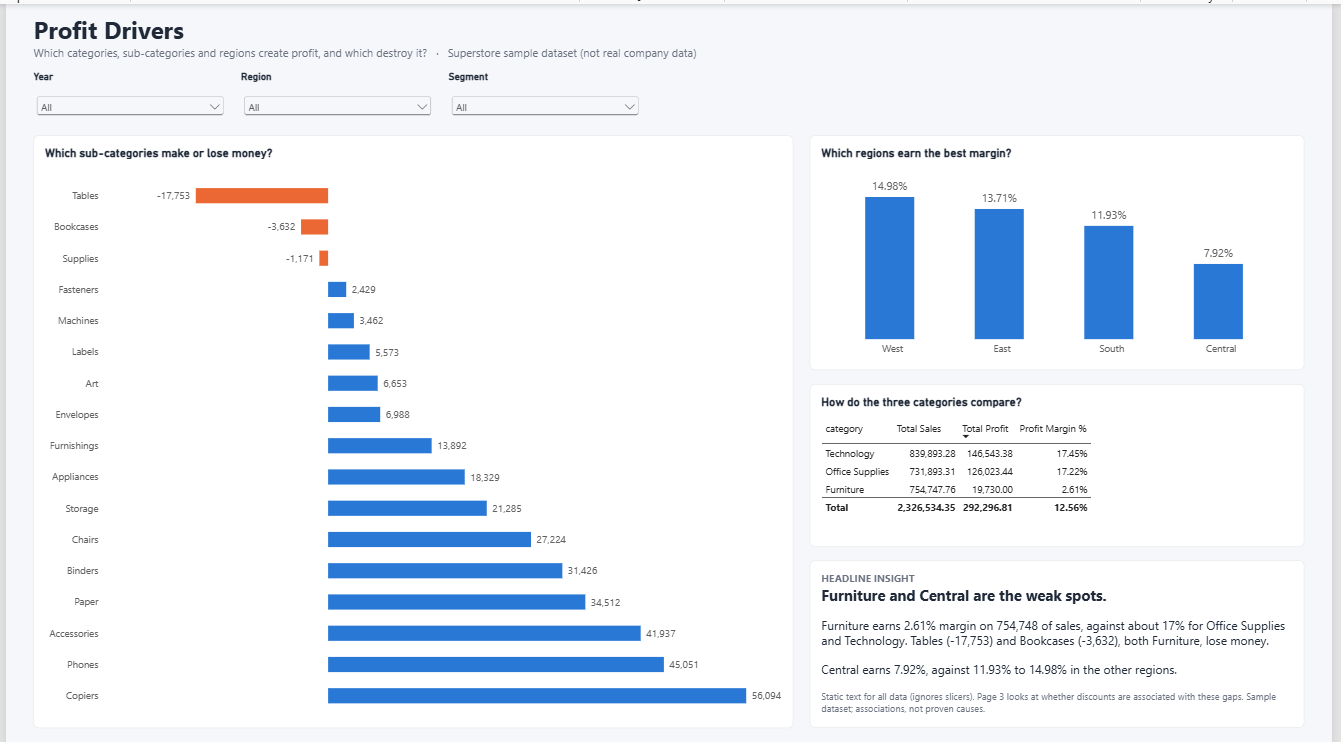

The dashboard page shown, as its layout file describes it:
{"tool":"powerbi","page":{"name":"Profit Drivers","canvas":[1920,1080],"ordinal":1},"visuals":[{"type":"textbox","box":[40,12,1500,80],"z":10},{"type":"slicer","title":"Year","fields":{"Values":["Orders.order_year"]},"box":[40,96,280,80],"z":20},{"type":"slicer","title":"Region","fields":{"Values":["Orders.region"]},"box":[340,96,280,80],"z":21},{"type":"slicer","title":"Segment","fields":{"Values":["Orders.segment"]},"box":[640,96,280,80],"z":22},{"type":"clusteredBarChart","title":"Which sub-categories make or lose money?","fields":{"Category":["Orders.sub_category"],"Y":["Orders.Total Profit"]},"box":[40,190,1100,858],"z":30},{"type":"clusteredColumnChart","title":"Which regions earn the best margin?","fields":{"Category":["Orders.region"],"Y":["Orders.Profit Margin %"]},"box":[1164,190,716,340],"z":40},{"type":"tableEx","title":"How do the three categories compare?","fields":{"Values":["Orders.category","Orders.Total Sales","Orders.Total Profit","Orders.Profit Margin %"]},"box":[1164,550,716,236],"z":50},{"type":"textbox","box":[1164,806,716,242],"z":60}]}

Visuals, with their boxes in screenshot pixels (x1, y1, x2, y2), scaled from the page's 1920x1080 canvas onto the 1341x742 screenshot:
textbox: <bbox>28, 8, 1076, 63</bbox>
"Year" slicer: <bbox>28, 66, 224, 121</bbox>
"Region" slicer: <bbox>237, 66, 433, 121</bbox>
"Segment" slicer: <bbox>447, 66, 643, 121</bbox>
"Which sub-categories make or lose money?" clusteredBarChart: <bbox>28, 131, 796, 720</bbox>
"Which regions earn the best margin?" clusteredColumnChart: <bbox>813, 131, 1313, 364</bbox>
"How do the three categories compare?" tableEx: <bbox>813, 378, 1313, 540</bbox>
textbox: <bbox>813, 554, 1313, 720</bbox>
